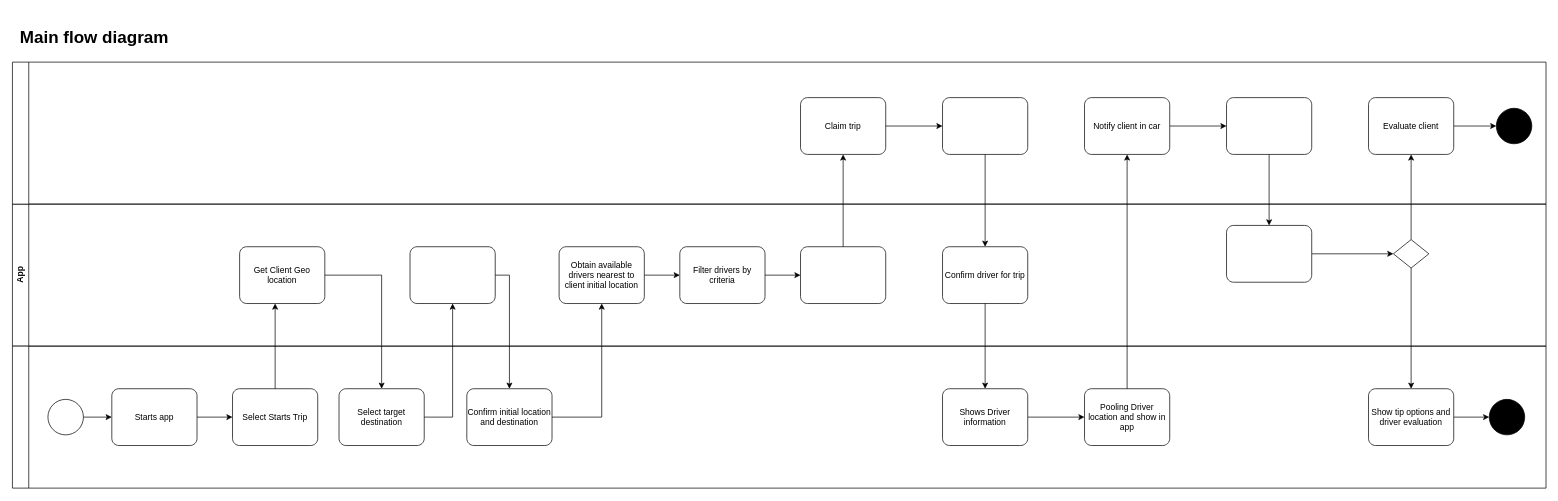
Some shapes in this 1558 by 501 pixel diagram are drawn without their labels. Here are the shapes that lost their labels. From the top down, the box of each, then its label:
(12, 61, 1546, 204): Driver
(942, 97, 1028, 154): Accepts trip
(1226, 97, 1312, 154): Notify trip finished
(1226, 225, 1312, 282): Register the successful trip
(409, 246, 495, 304): Get Target Geo location
(800, 246, 886, 304): Broadcast to connected drivers the announce of the requested trip
(12, 345, 1546, 488): Client
